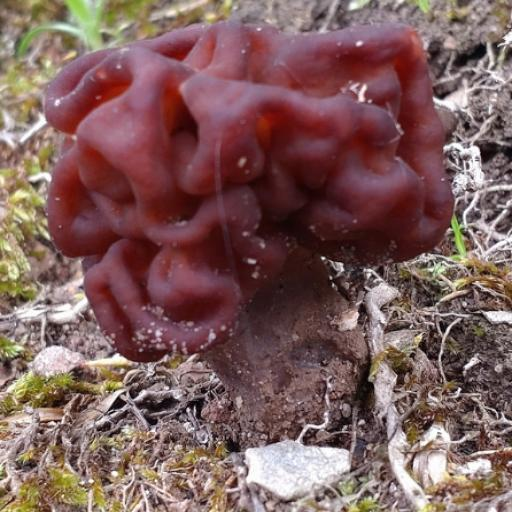mushroom: (11, 0, 481, 379)
